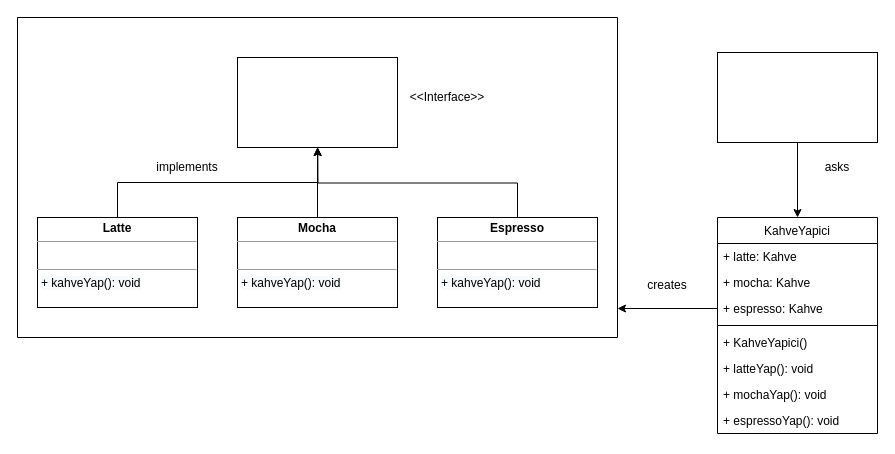
The diagram is 895 pixels wide and 454 high, and some of its shapes have lost their labels. Here are the shapes that lost their labels. From the top down, the box of each, then its label:
(236, 56, 398, 148): Kahve + kahveYap(): void
(716, 52, 878, 142): FacadeDesign + main(): void
